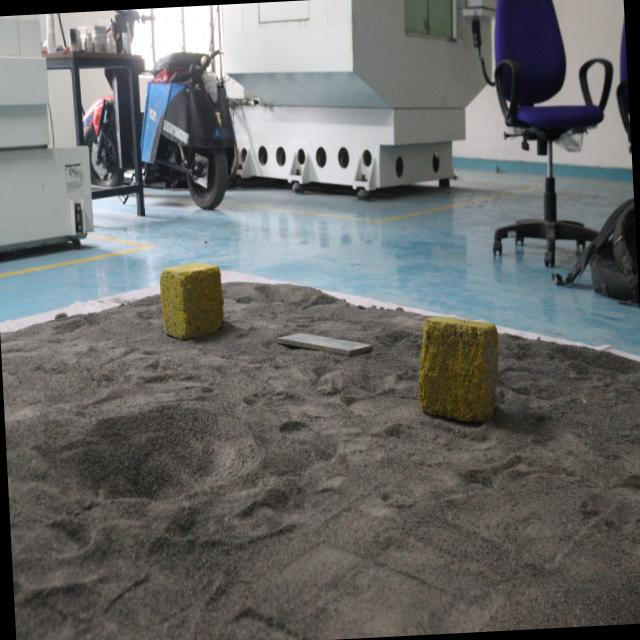box: (416, 305, 500, 428), (160, 261, 230, 343)
crater: (46, 384, 276, 535)
